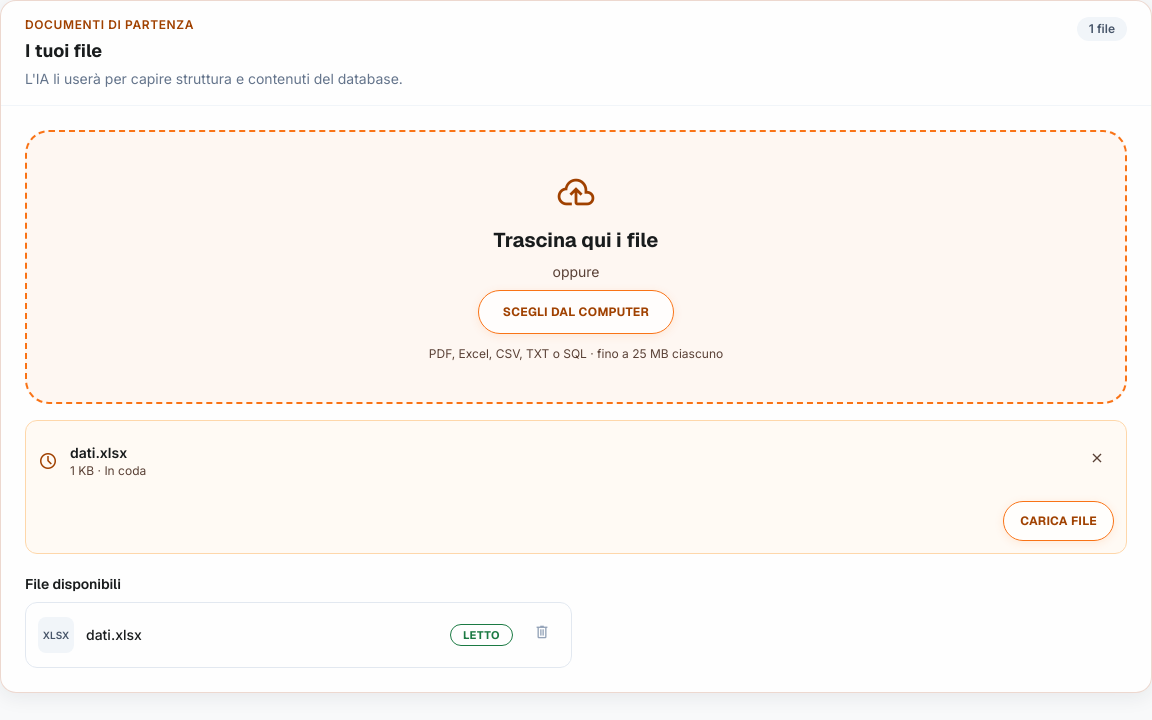
Test: DocumentUploader › reconciles only a new ID after a lost upload response
Earlier steps of the test are not shown.
Click the button "Carica file". click: coordinates (1059, 521)
box: [1003,501,1114,541]
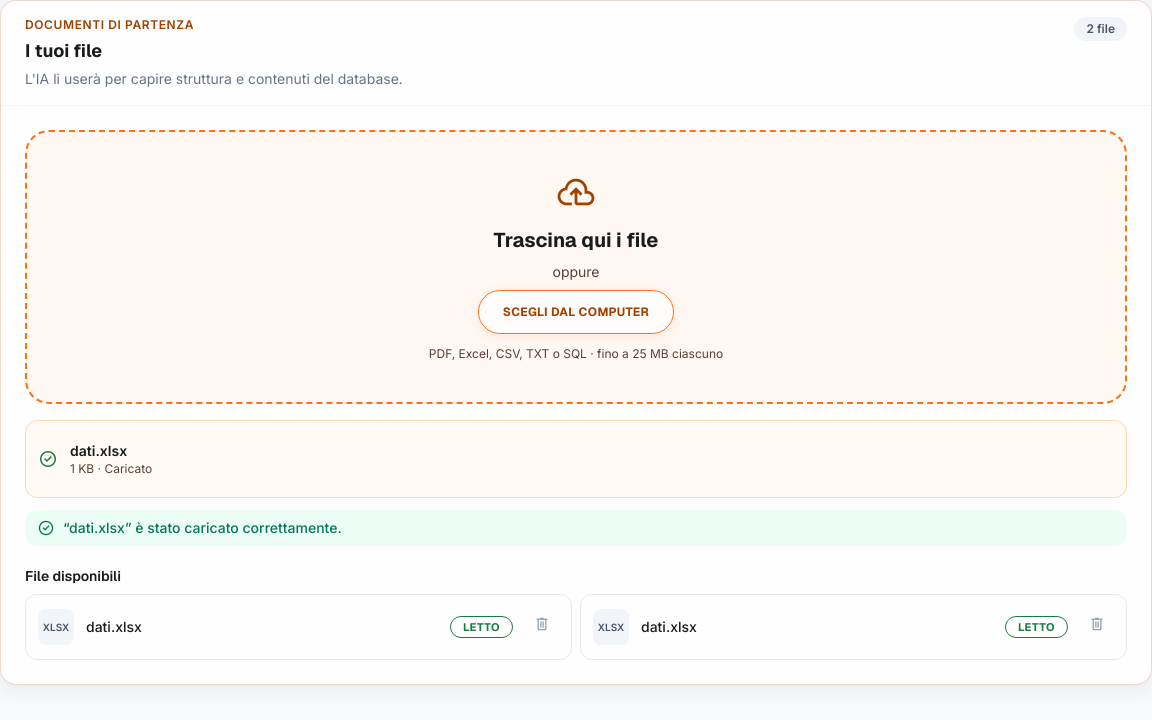
Check: the text "“dati.xlsx” è stato caricato correttamente." is shown, box [25,510,1127,546]
